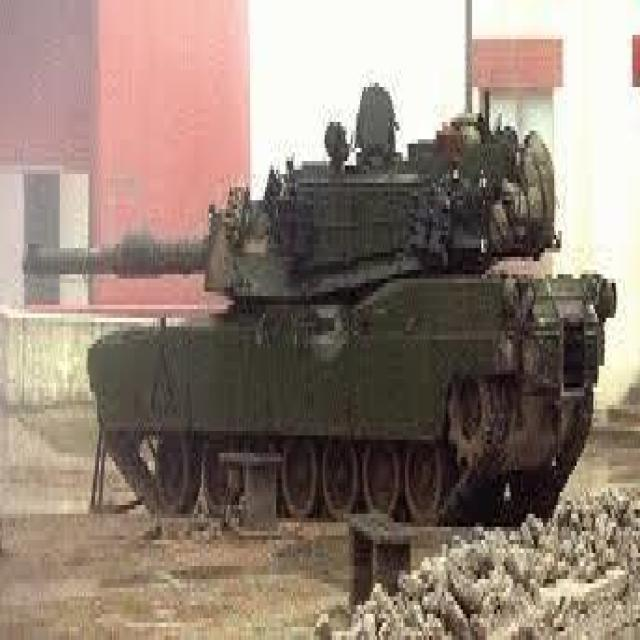Tanks: (80, 276, 618, 520)
